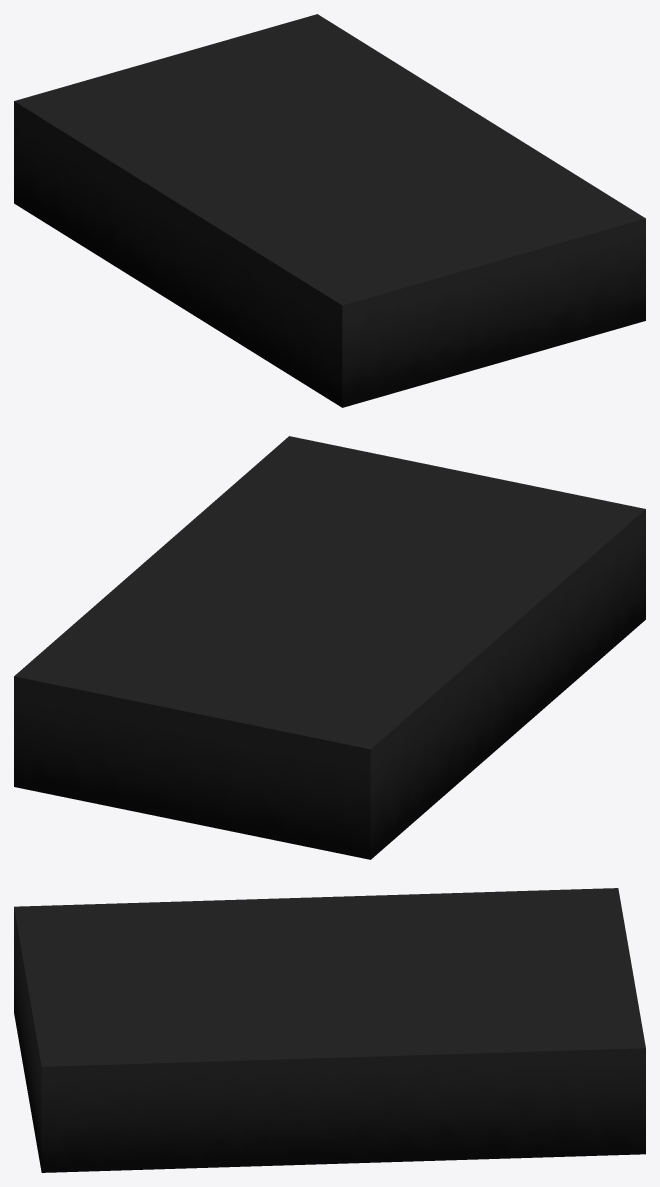
File: sofa_set_2_table.glb
3 renders of one model, top to bottom at view 1: azimuth 30°, elevation 25°; view 2: azimuth 150°, elevation 25°; view 3: azimuth 270°, elevation 25°, orthographic. The views are drawn at different scales.
Parts seen in each view (by area): view 1: Cube.003_Material.005_0; view 2: Cube.003_Material.005_0; view 3: Cube.003_Material.005_0.
Boxes of the visible parts, x1=… form: Cube.003_Material.005_0: x1=14, y1=14, x2=645, y2=407; Cube.003_Material.005_0: x1=14, y1=436, x2=645, y2=859; Cube.003_Material.005_0: x1=14, y1=888, x2=645, y2=1172.
Size of the model in its own units: 1.81 by 0.5 by 2.7.
Materials: 1 (1 with a texture image).
